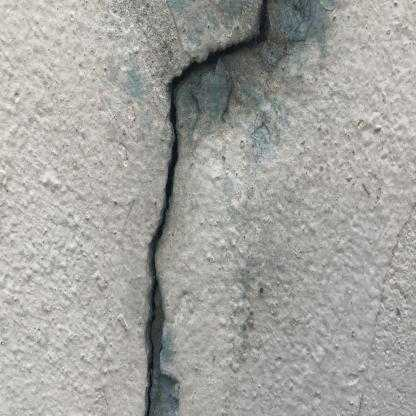crack: (142, 3, 273, 410)
